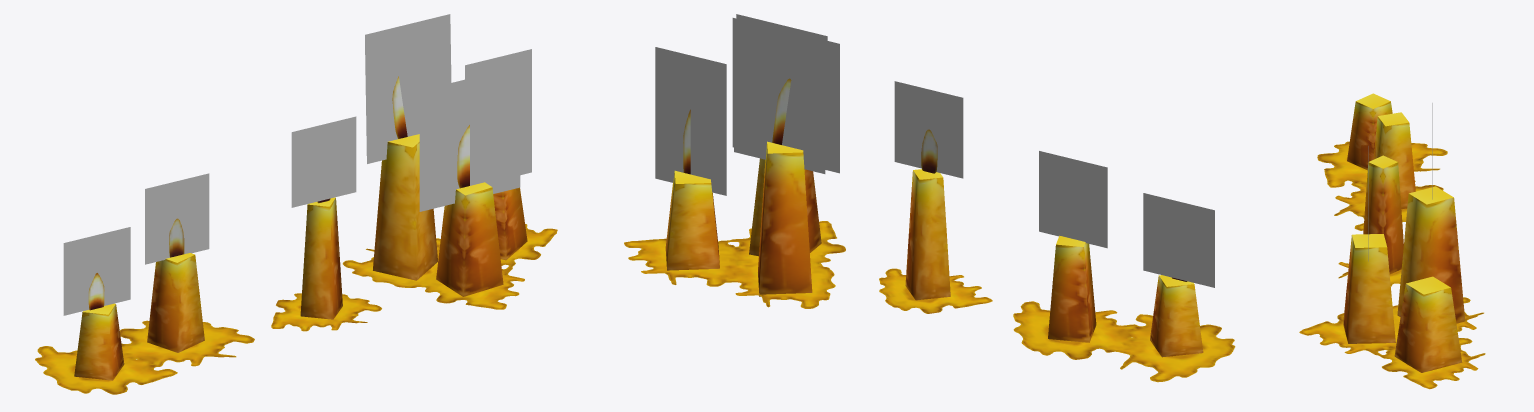
The model's file is SM_Town012_Lzy1.FBX.
The picture shows the model from 3 angles, left to right: view 1: azimuth 30°, elevation 25°; view 2: azimuth 150°, elevation 25°; view 3: azimuth 270°, elevation 25°; orthographic projection. The views are drawn at different scales.
Visible parts, largest first — view 1: SM_Town012_Lz1, Object03, SM_Town012_Lzy1, Object04, Object05; view 2: SM_Town012_Lz1, Object04, SM_Town012_Lzy1, Object05, Object03; view 3: SM_Town012_Lz1, SM_Town012_Lzy1.
Boxes of the visible parts, bbox=[...] form: SM_Town012_Lz1: bbox=[74, 134, 527, 380]; Object03: bbox=[145, 66, 520, 264]; SM_Town012_Lzy1: bbox=[35, 76, 557, 394]; Object04: bbox=[63, 14, 451, 315]; Object05: bbox=[291, 49, 531, 207]; SM_Town012_Lz1: bbox=[665, 141, 1203, 357]; Object04: bbox=[734, 14, 1214, 287]; SM_Town012_Lzy1: bbox=[624, 78, 1235, 382]; Object05: bbox=[655, 47, 963, 195]; Object03: bbox=[732, 18, 1107, 248]; SM_Town012_Lz1: bbox=[1343, 93, 1465, 372]; SM_Town012_Lzy1: bbox=[1299, 141, 1485, 389].
Size of the model in its own units: 148 by 58.4 by 52.26.
